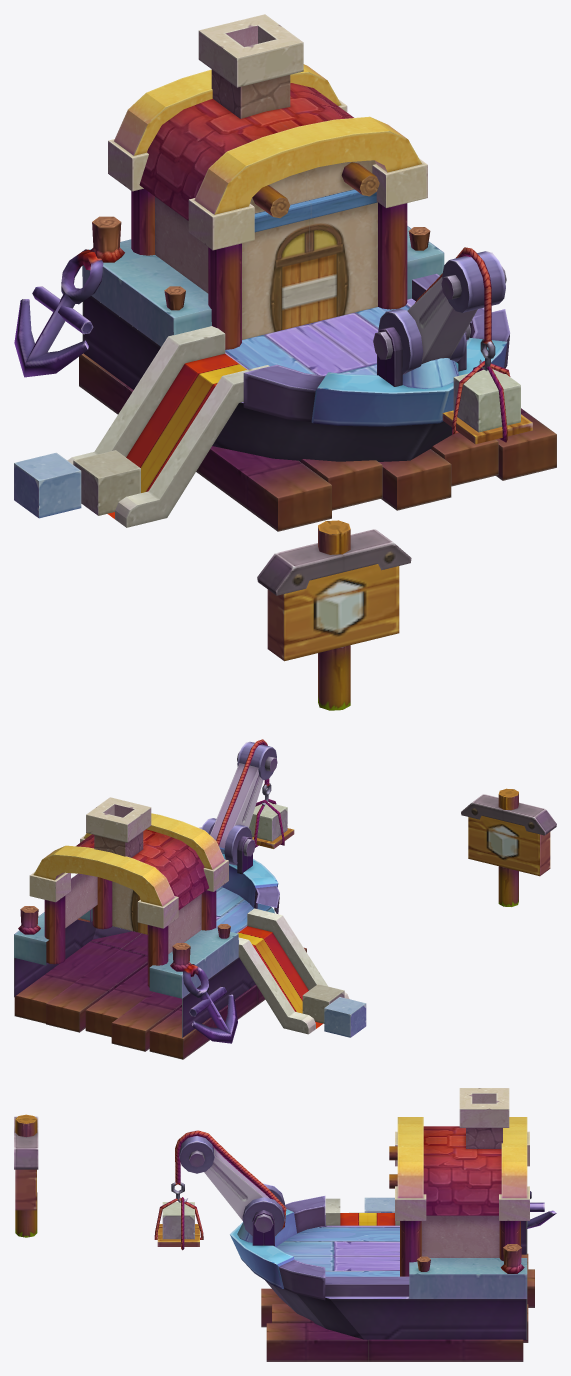
Rendered from scenes_construction_quarry01c.FBX.
3 views of the same model, one above another, from view 1: azimuth 30°, elevation 25°; view 2: azimuth 150°, elevation 25°; view 3: azimuth 270°, elevation 25° (orthographic). The views are drawn at different scales.
Parts seen in each view (by area): view 1: scenes_construction_quarry01c; view 2: scenes_construction_quarry01c; view 3: scenes_construction_quarry01c.
Boxes of the visible parts, left/top/right/bottom form: scenes_construction_quarry01c: left=14, top=14, right=556, bottom=710; scenes_construction_quarry01c: left=14, top=739, right=556, bottom=1059; scenes_construction_quarry01c: left=14, top=1088, right=556, bottom=1361.
Size of the model in its own units: 1713 by 1172 by 2619.
